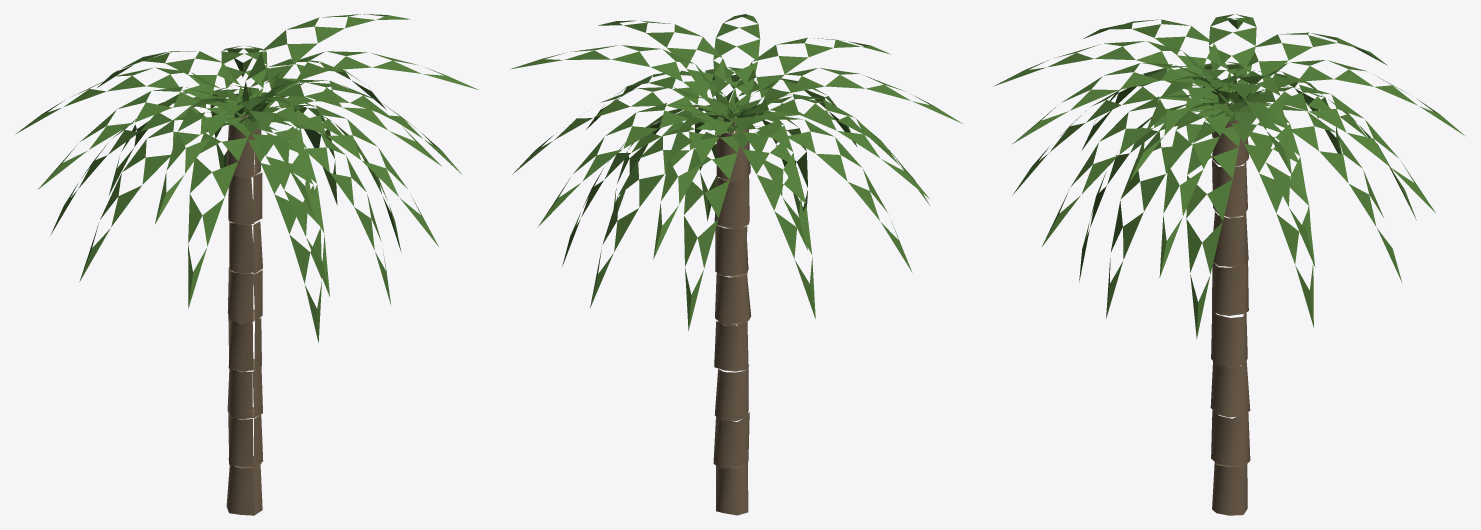
File: palm_date.glb
3 views of the same model, side by side, from view 1: azimuth 30°, elevation 25°; view 2: azimuth 150°, elevation 25°; view 3: azimuth 270°, elevation 25° (orthographic). The views are drawn at different scales.
Visible parts, largest first — view 1: palm; view 2: palm; view 3: palm.
Boxes of the visible parts, x1,y1,x2,y2 form: palm: (15, 14, 478, 515); palm: (510, 14, 962, 515); palm: (993, 14, 1465, 515).
Bounding box in the file's own units: 7.57 × 8.19 × 7.53.
